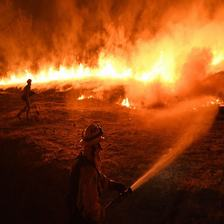fire: (4, 57, 224, 90)
